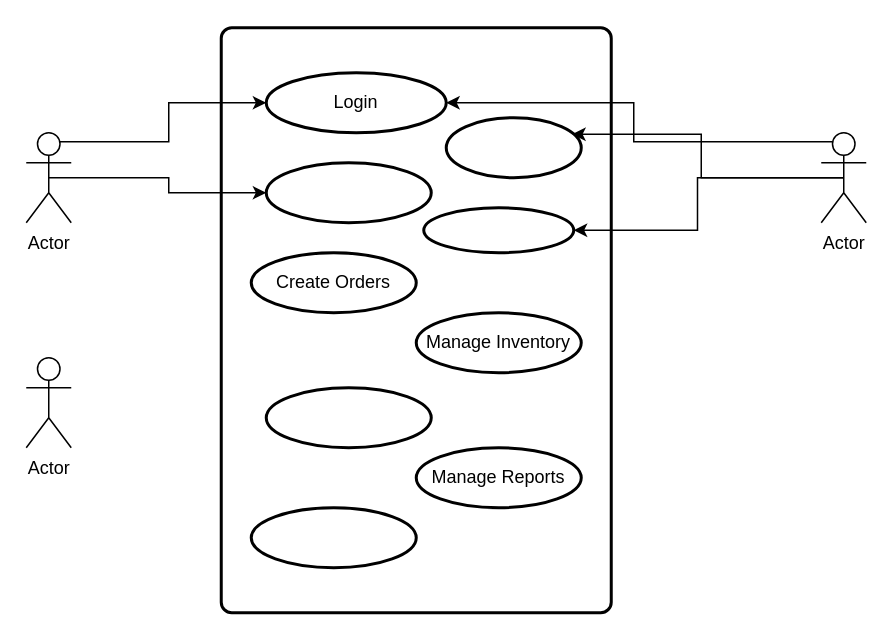
Image size: 893x639. Some labels were removed from this diagram. Each missing label, with the box of its shape:
Add Products: (444, 116, 582, 178)
Add Users: (422, 206, 574, 254)
Print Invoices: (264, 160, 432, 224)
